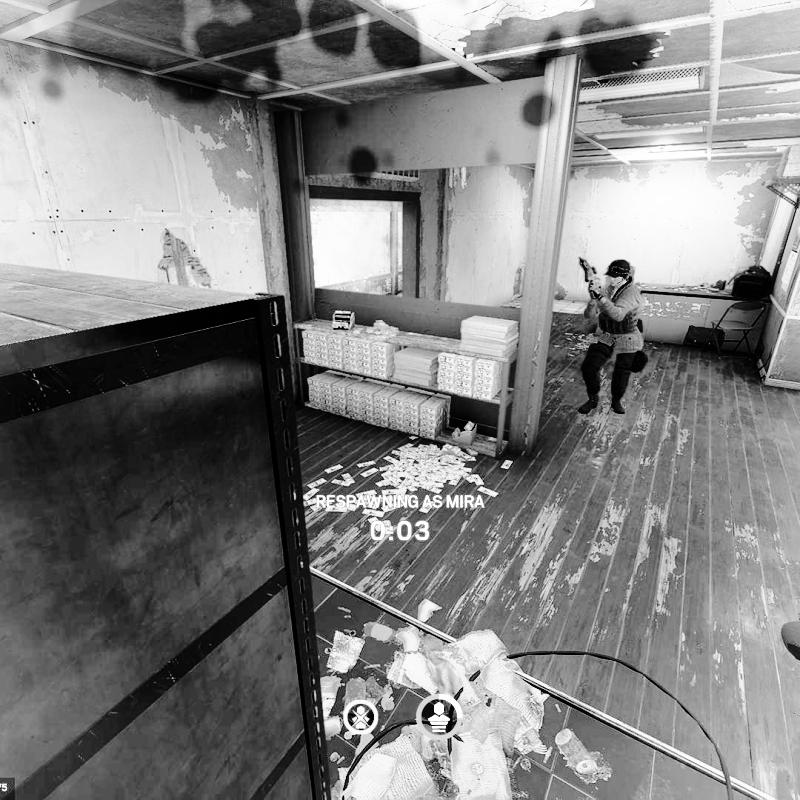Character: (575, 258, 650, 416)
Head: (604, 259, 636, 289)
